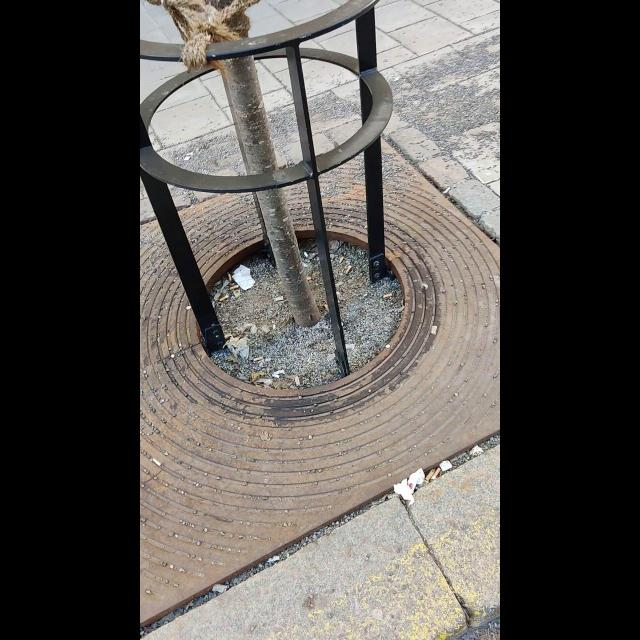cigarette: (434, 468, 445, 480), (425, 470, 435, 482), (213, 584, 227, 592), (152, 458, 162, 467), (273, 294, 283, 302), (253, 356, 264, 362), (294, 376, 301, 385), (344, 266, 350, 276), (431, 324, 436, 336), (338, 255, 346, 262), (220, 295, 228, 302), (383, 293, 392, 299), (230, 284, 238, 290), (443, 188, 449, 194), (228, 273, 232, 280), (305, 278, 311, 280)
